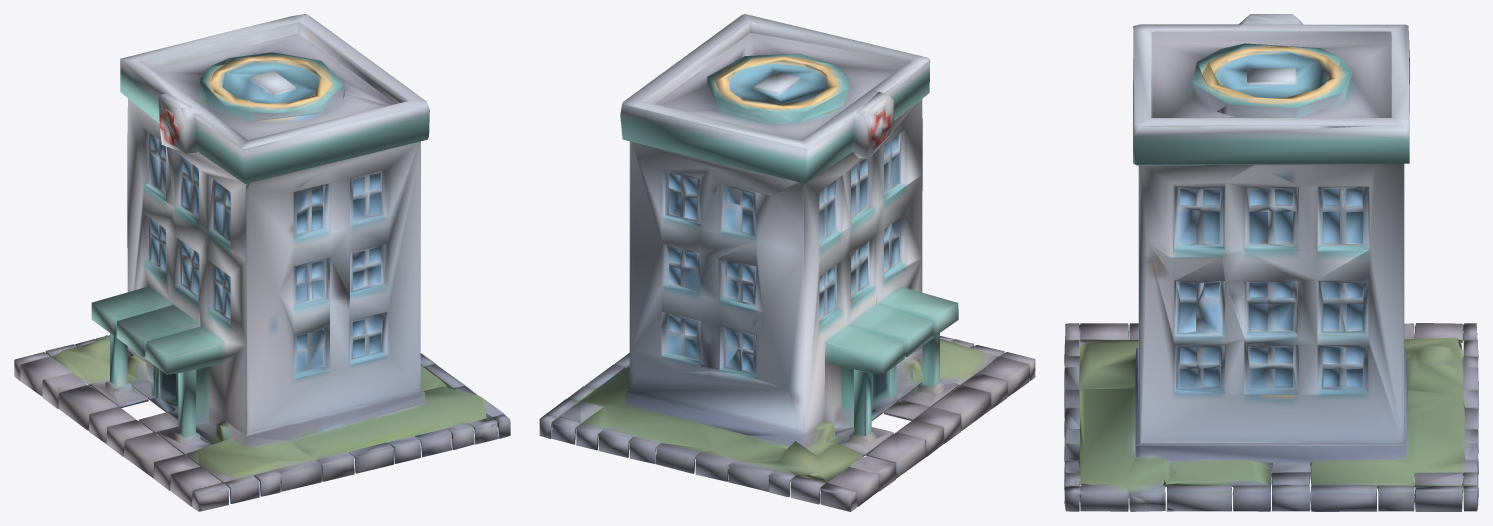
The model's file is hastane.glb.
3 views of the same model, side by side, from view 1: azimuth 30°, elevation 25°; view 2: azimuth 150°, elevation 25°; view 3: azimuth 270°, elevation 25° (orthographic). The views are drawn at different scales.
Visible parts, largest first — view 1: node_0; view 2: node_0; view 3: node_0.
Boxes of the visible parts, x1,y1,x2,y2 form: node_0: (14,14,510,511); node_0: (539,14,1035,511); node_0: (1064,14,1478,511).
Bounding box in the file's own units: 0.6894 × 0.6883 × 0.7106.
Materials: 1 (1 with a texture image).
